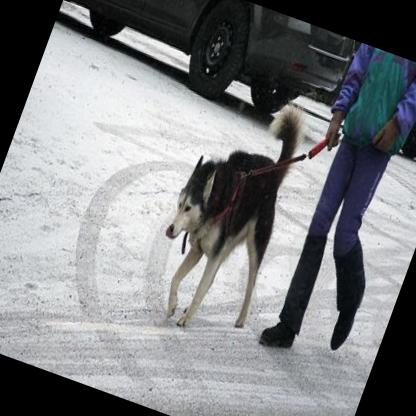Eskimo_dog: (135, 77, 320, 348)
